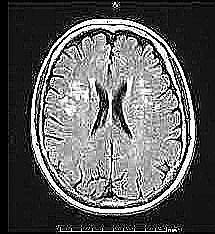Normal_Brain: (3, 1, 215, 234)
